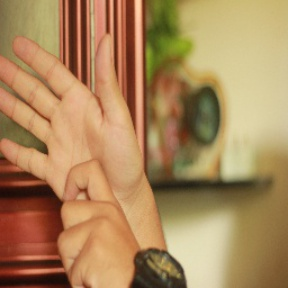R: (1, 30, 141, 260)
